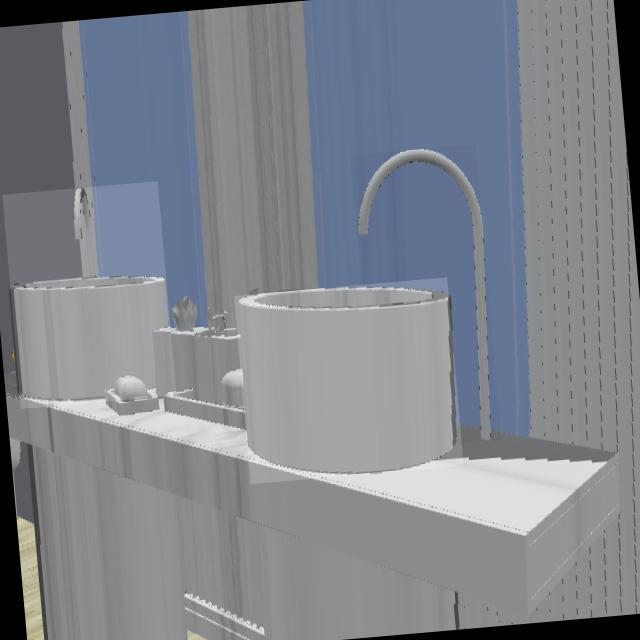washbasin: (236, 286, 454, 475), (357, 149, 491, 441), (10, 189, 169, 401)
